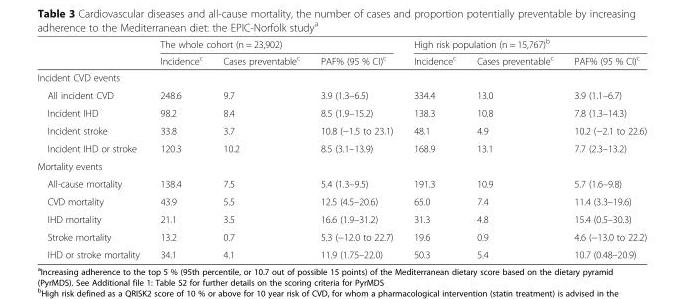table: (36, 36, 646, 259)
table column: (36, 36, 149, 259), (465, 36, 563, 259), (212, 36, 309, 259), (309, 36, 402, 259), (563, 36, 646, 259), (149, 36, 212, 259), (402, 36, 465, 259)
table column header: (36, 36, 646, 68)
table projected row header: (36, 68, 646, 86), (36, 156, 646, 174)
table row: (36, 68, 646, 86), (36, 103, 646, 121), (36, 121, 646, 139), (36, 156, 646, 174), (36, 174, 646, 192), (36, 209, 646, 227), (36, 227, 646, 245), (36, 51, 646, 68), (36, 86, 646, 103), (36, 139, 646, 156), (36, 192, 646, 209), (36, 36, 646, 51), (36, 245, 646, 259)
table spanning cell: (149, 36, 402, 51), (402, 36, 646, 51)
